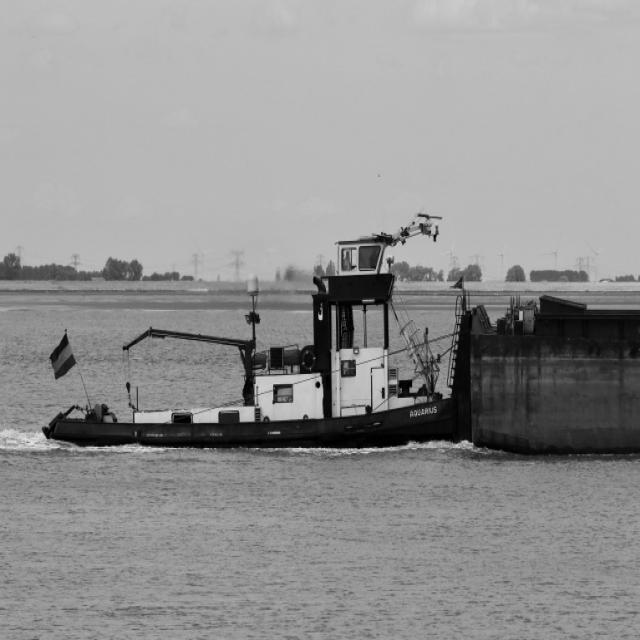tugboat: (37, 208, 481, 470)
